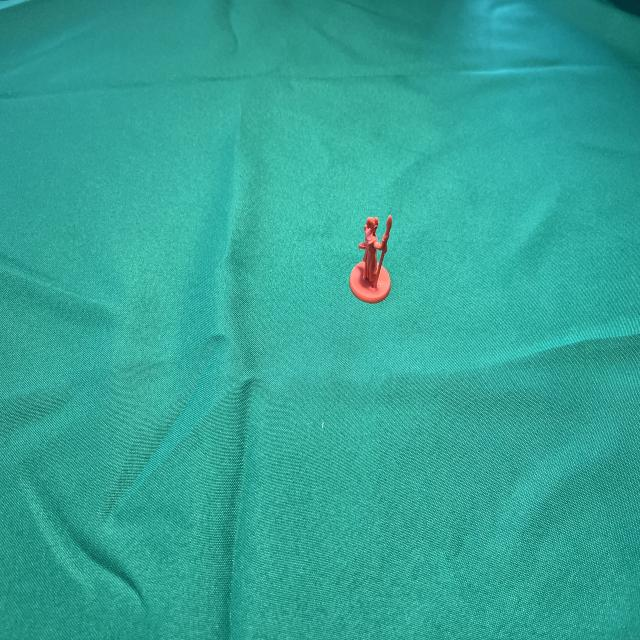amon_follower: (350, 217, 392, 303)
